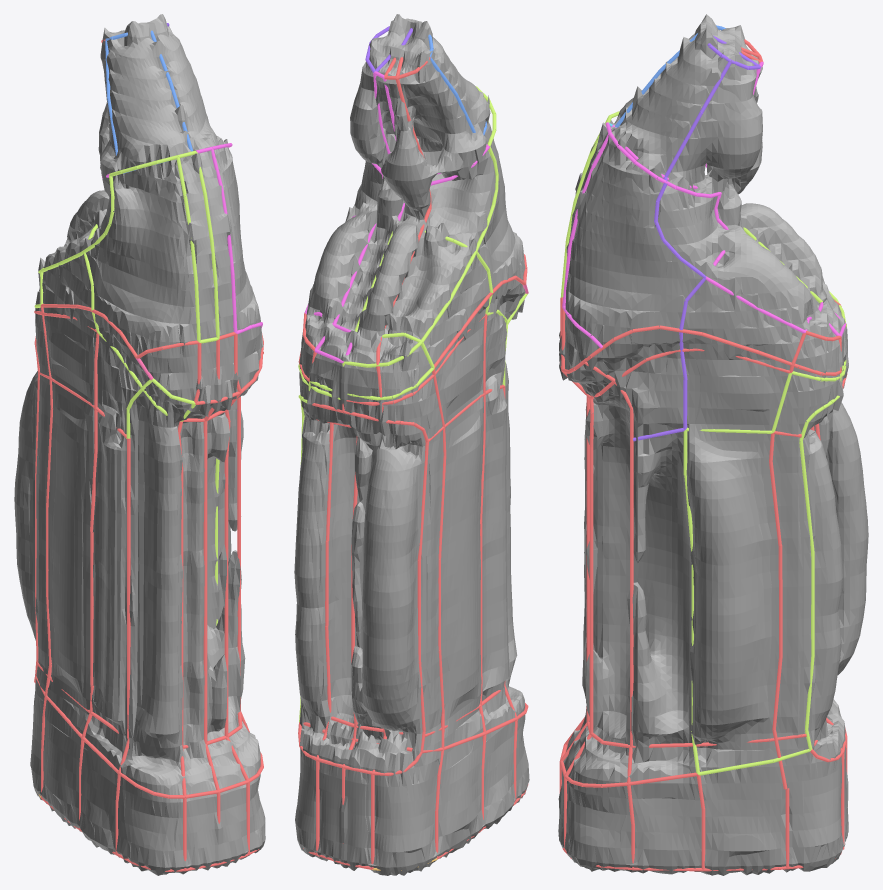
File: flowrep_bottle.gltf
3 renders of one model, left to right at view 1: azimuth 30°, elevation 25°; view 2: azimuth 150°, elevation 25°; view 3: azimuth 270°, elevation 25°, orthographic. The views are drawn at different scales.
Size of the model in its own units: 0.2039 by 0.9619 by 0.3283.
